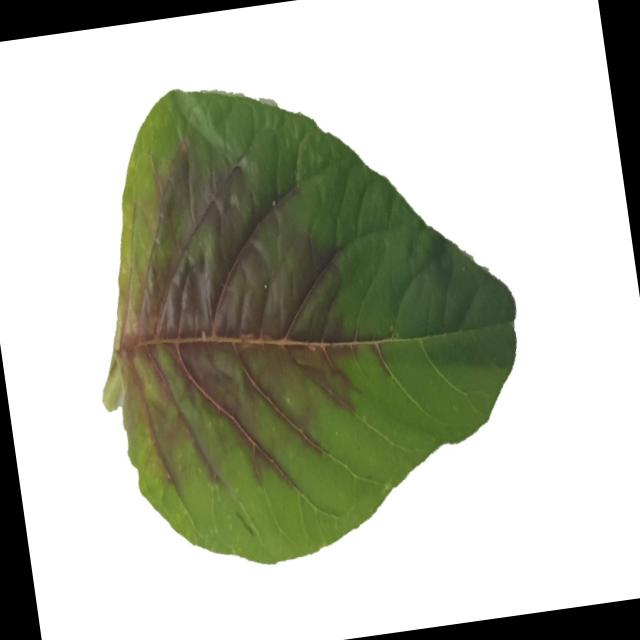Medicinal-Arive Dantu: (62, 44, 544, 581)
